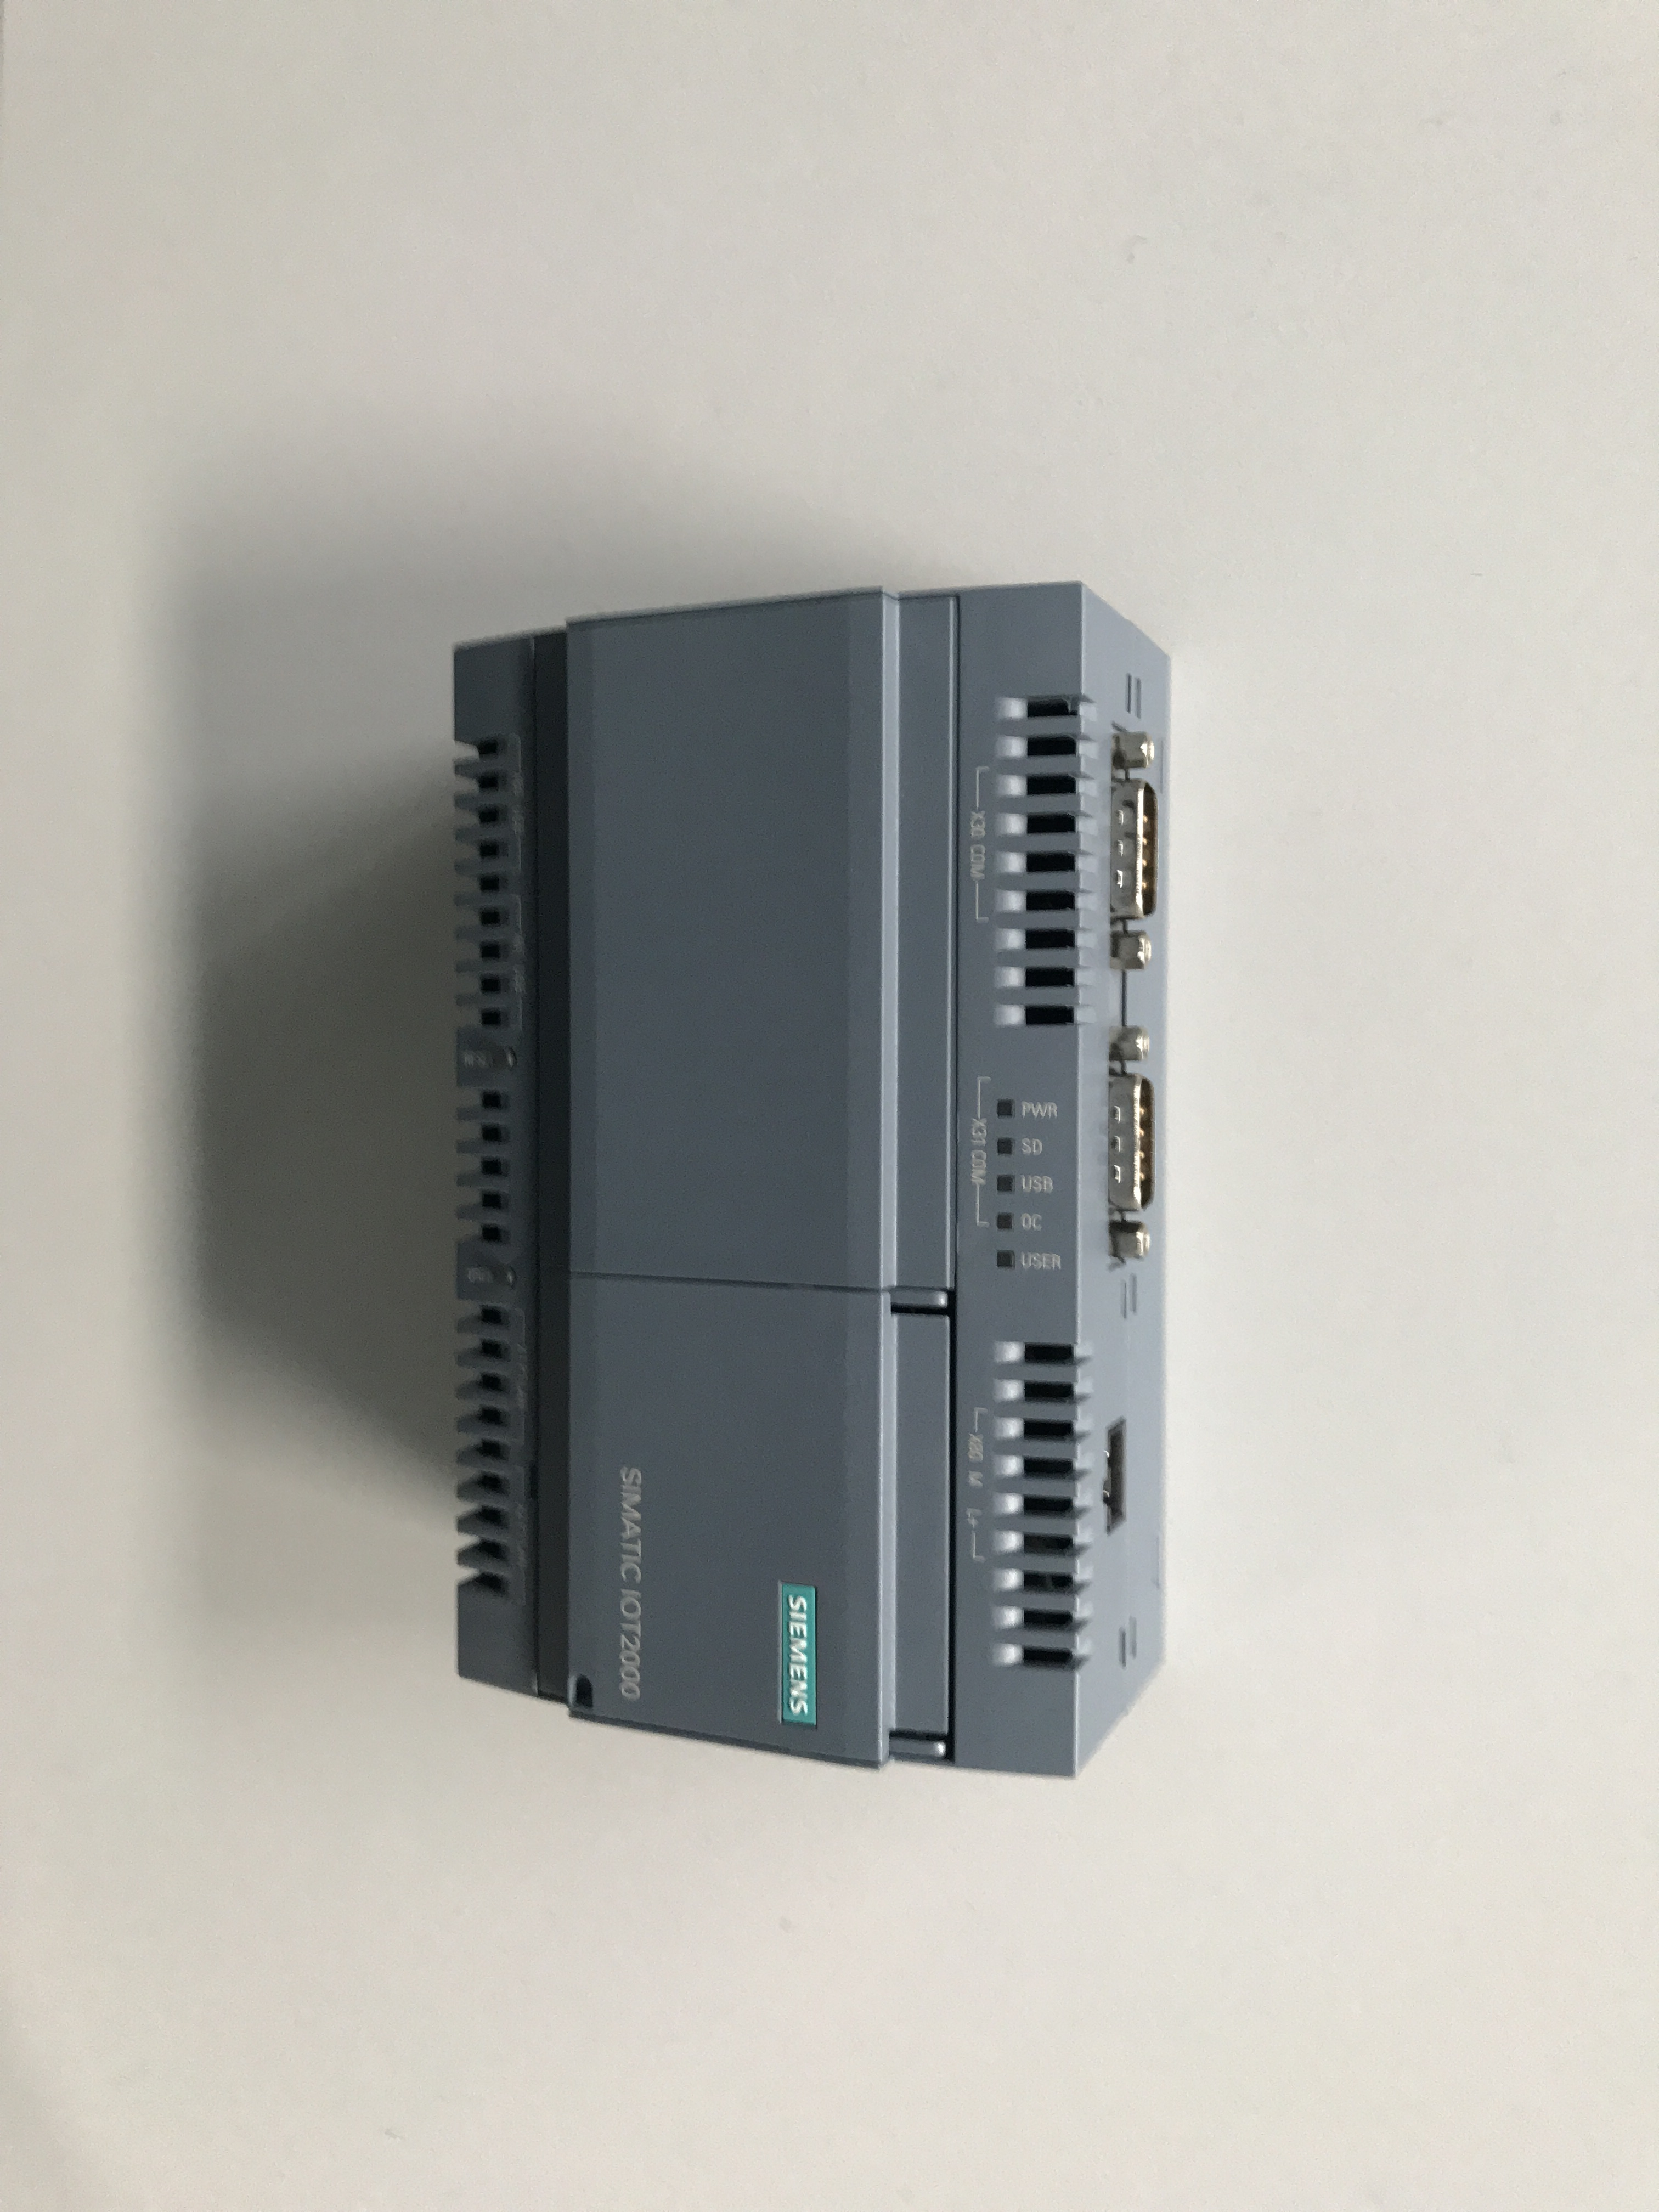device: (451, 578, 1168, 1782)
